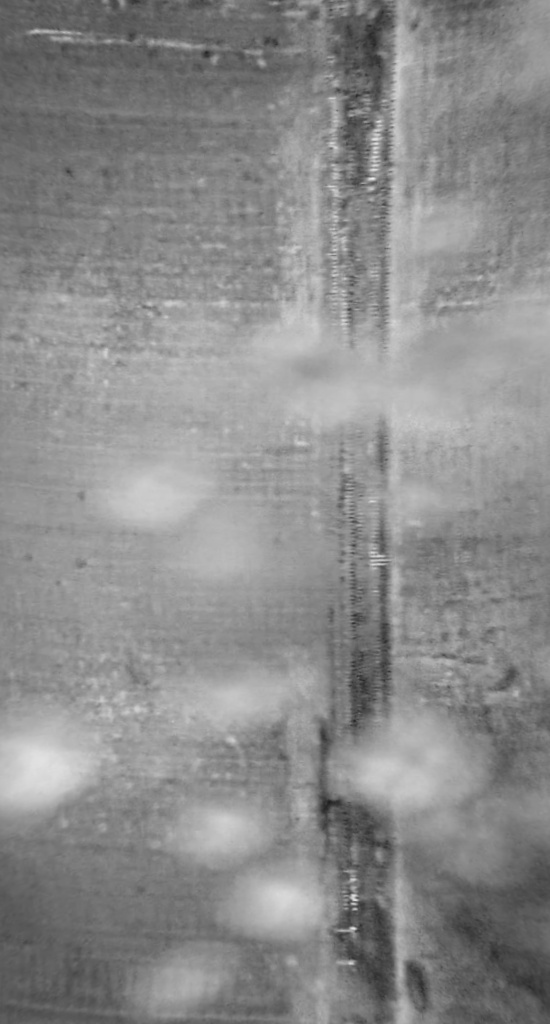splice: (316, 1, 413, 1022)
